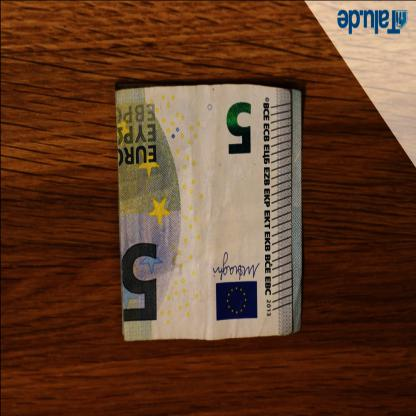euro_banknote: (84, 121, 338, 305)
